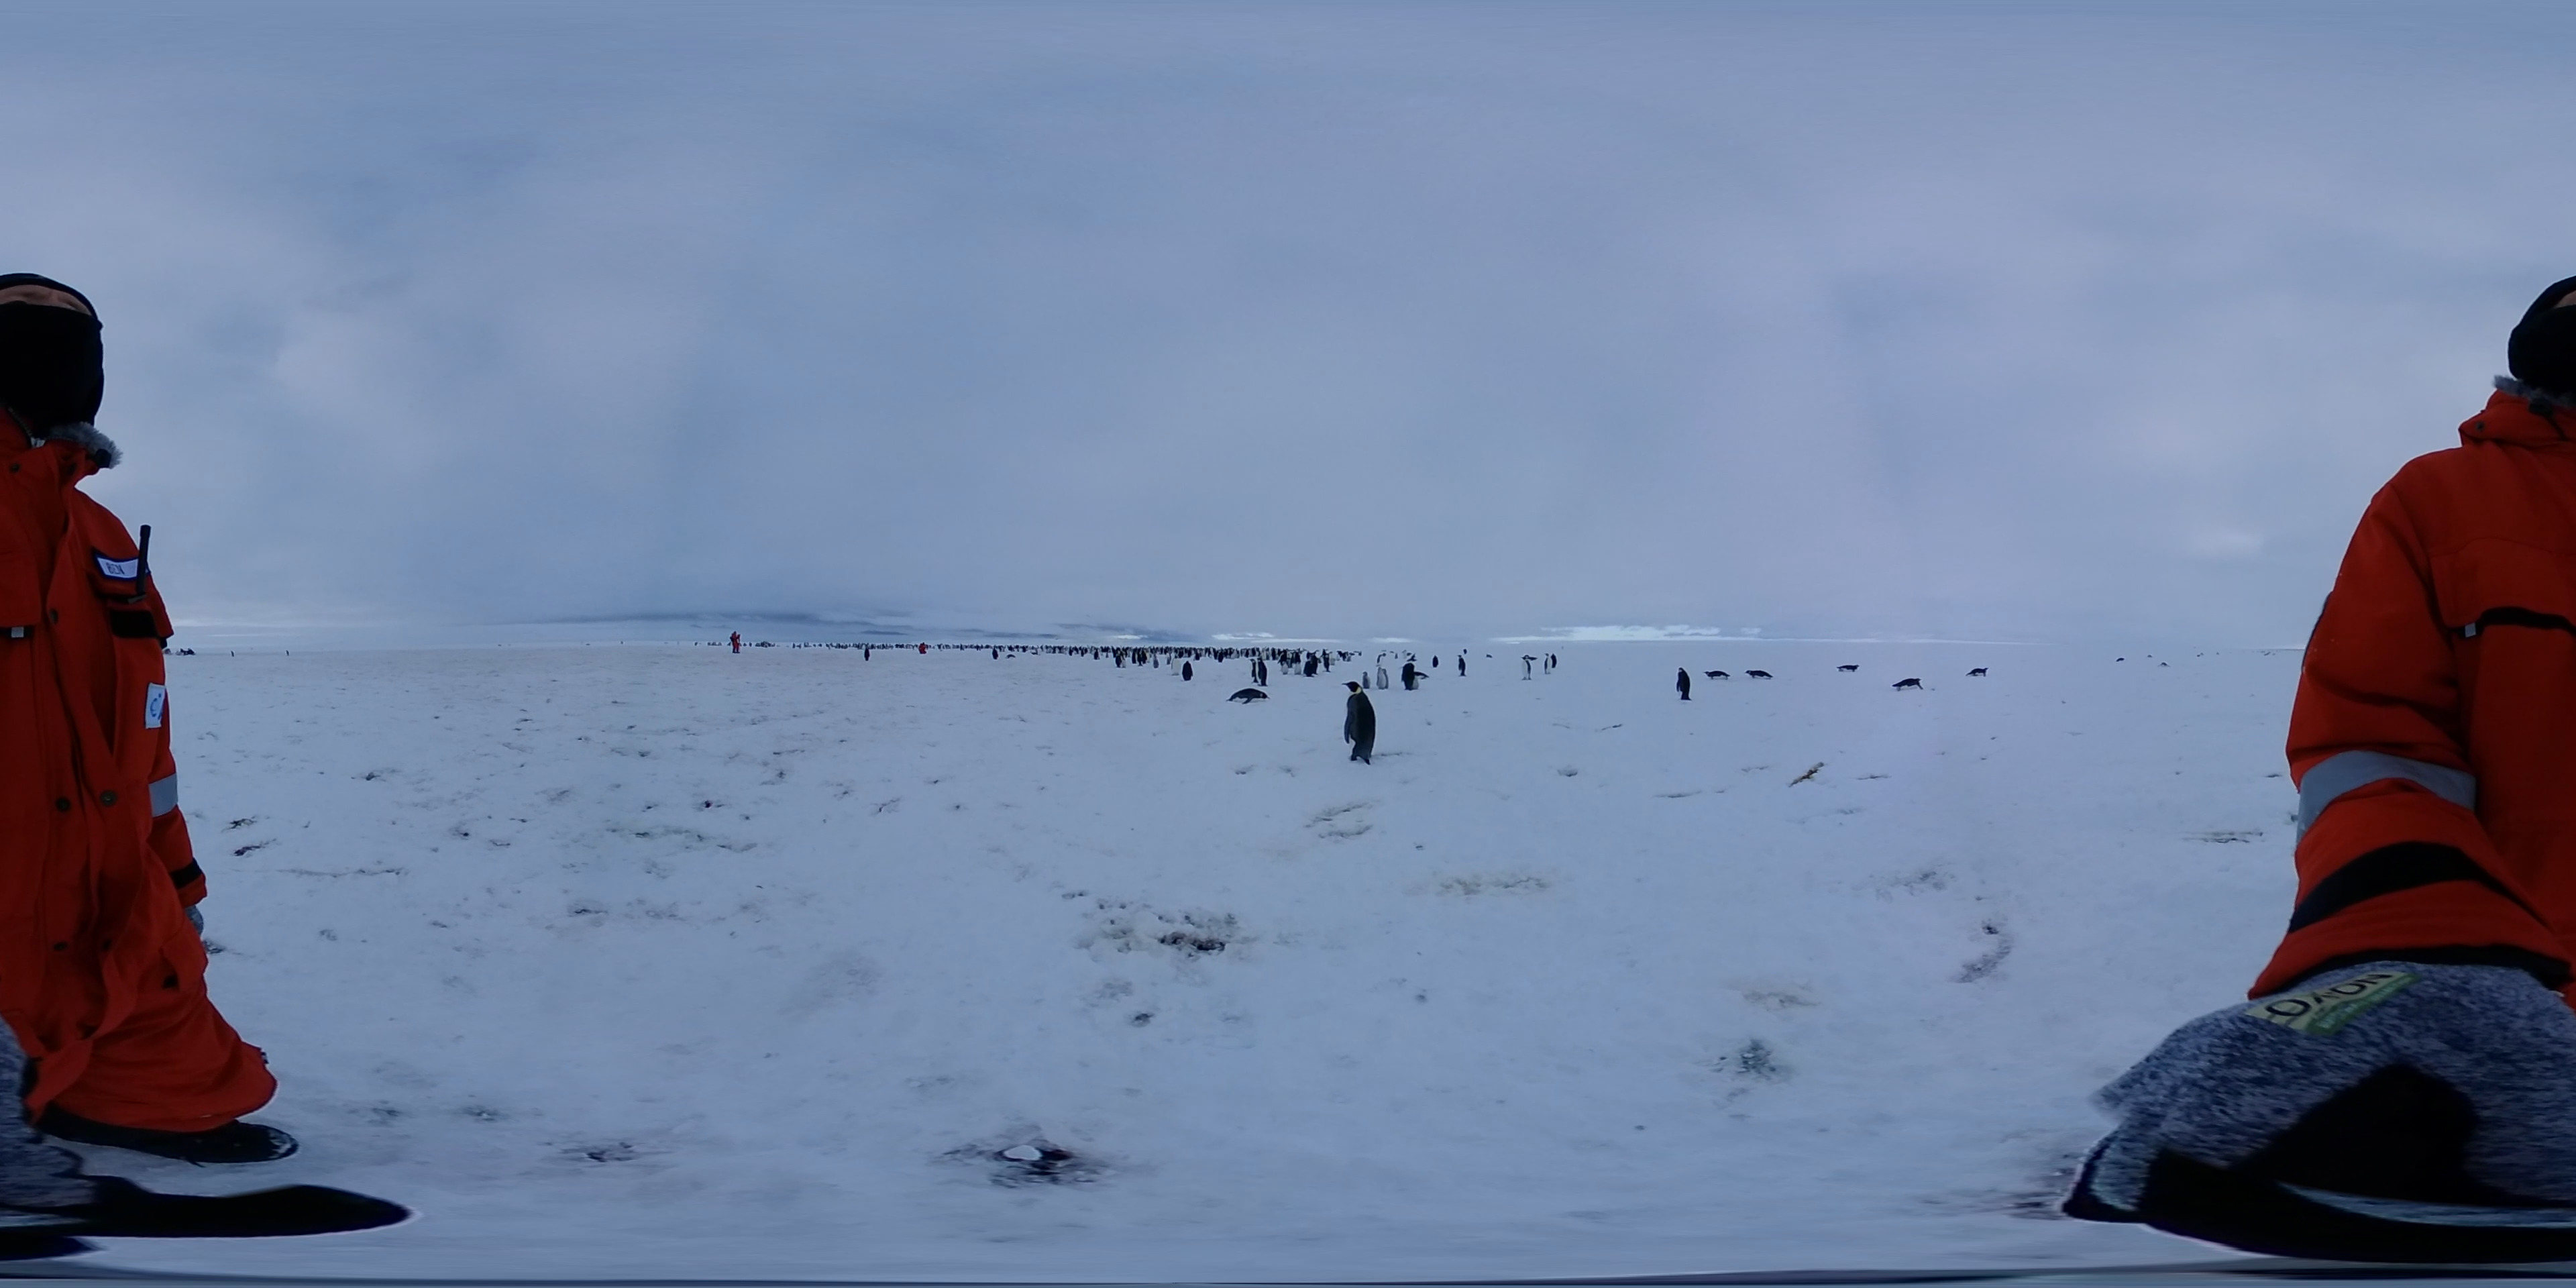adult_standing_penguin: (1339, 680, 1380, 770), (1401, 662, 1421, 692), (1676, 667, 1692, 701), (1247, 657, 1262, 687), (1257, 657, 1270, 688), (1456, 654, 1470, 678), (1541, 652, 1556, 677), (1180, 660, 1194, 683), (1523, 659, 1531, 682)
adult_toboggan_penguin: (1226, 685, 1270, 705), (1891, 677, 1929, 693), (1745, 669, 1774, 682), (1833, 662, 1861, 675), (1702, 669, 1730, 680), (1963, 667, 1988, 678), (1411, 672, 1433, 682)
juvenile_penguin: (1373, 665, 1388, 690), (1362, 670, 1372, 692)
researcher: (2223, 215, 2576, 1122), (0, 253, 289, 1207)
